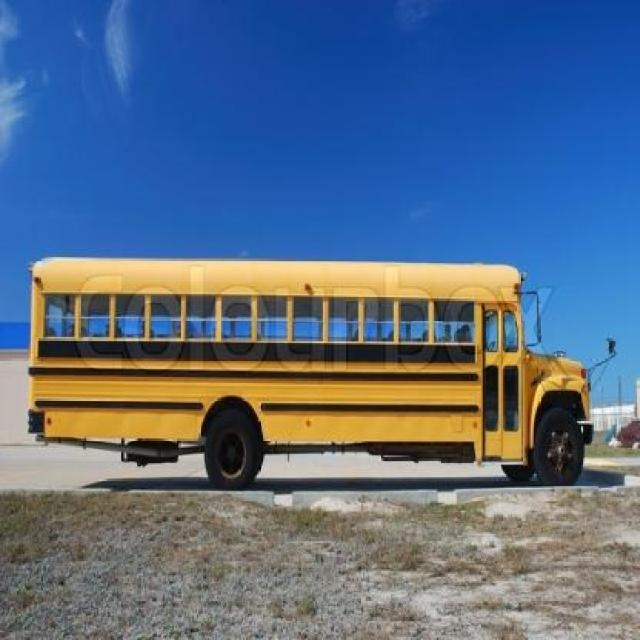Bus: (25, 248, 607, 490)
